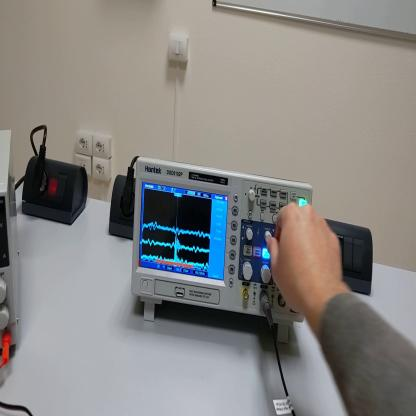hand: (268, 201, 347, 315)
oscilloscope: (125, 157, 315, 346), (2, 130, 22, 355)
socket: (18, 158, 90, 227), (107, 177, 136, 242)
